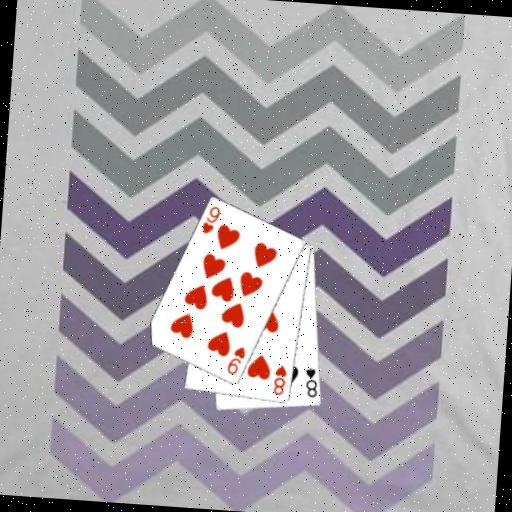8H: (270, 362, 289, 397)
8S: (302, 364, 321, 399)
9H: (224, 343, 248, 377), (199, 202, 222, 237)
